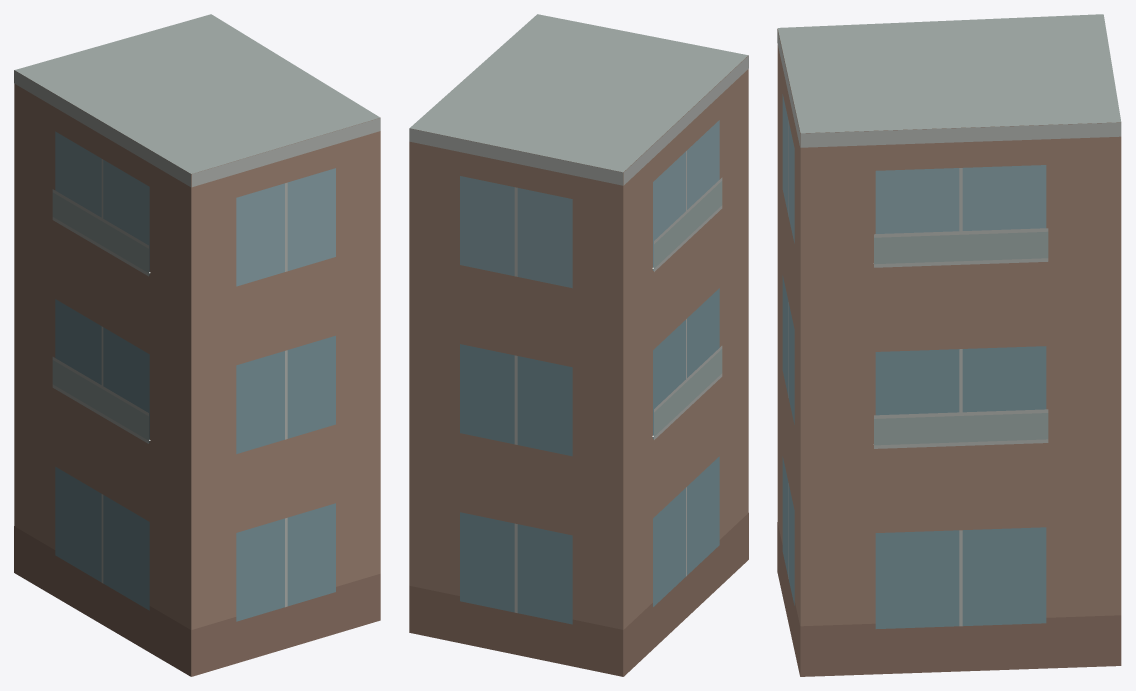
The model's file is survey-upis-32840705.glb.
3 views of the same model, side by side, from view 1: azimuth 30°, elevation 25°; view 2: azimuth 150°, elevation 25°; view 3: azimuth 270°, elevation 25° (orthographic). The views are drawn at different scales.
Visible parts, largest first — view 1: survey-upis-32840705.tmp; view 2: survey-upis-32840705.tmp; view 3: survey-upis-32840705.tmp.
Part boxes in pixels (bbox=[...]): survey-upis-32840705.tmp: bbox=[14, 14, 380, 676]; survey-upis-32840705.tmp: bbox=[409, 14, 748, 676]; survey-upis-32840705.tmp: bbox=[777, 14, 1121, 676].
Size of the model in its own units: 4.31 by 9.15 by 5.26.
